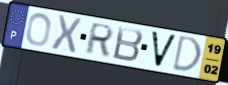B: (111, 25, 145, 64)
D: (170, 34, 203, 74)
O: (25, 12, 53, 48)
R: (83, 21, 116, 58)
V: (149, 30, 179, 70)
X: (50, 14, 84, 55)
